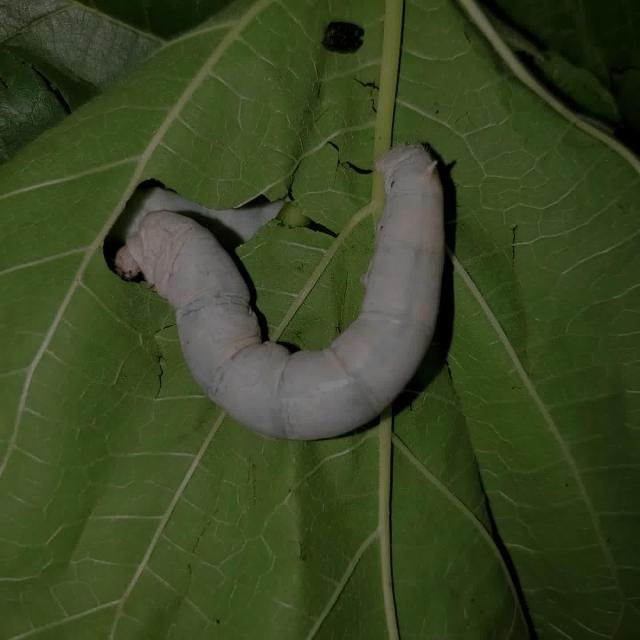Healthy: (86, 106, 471, 454)
